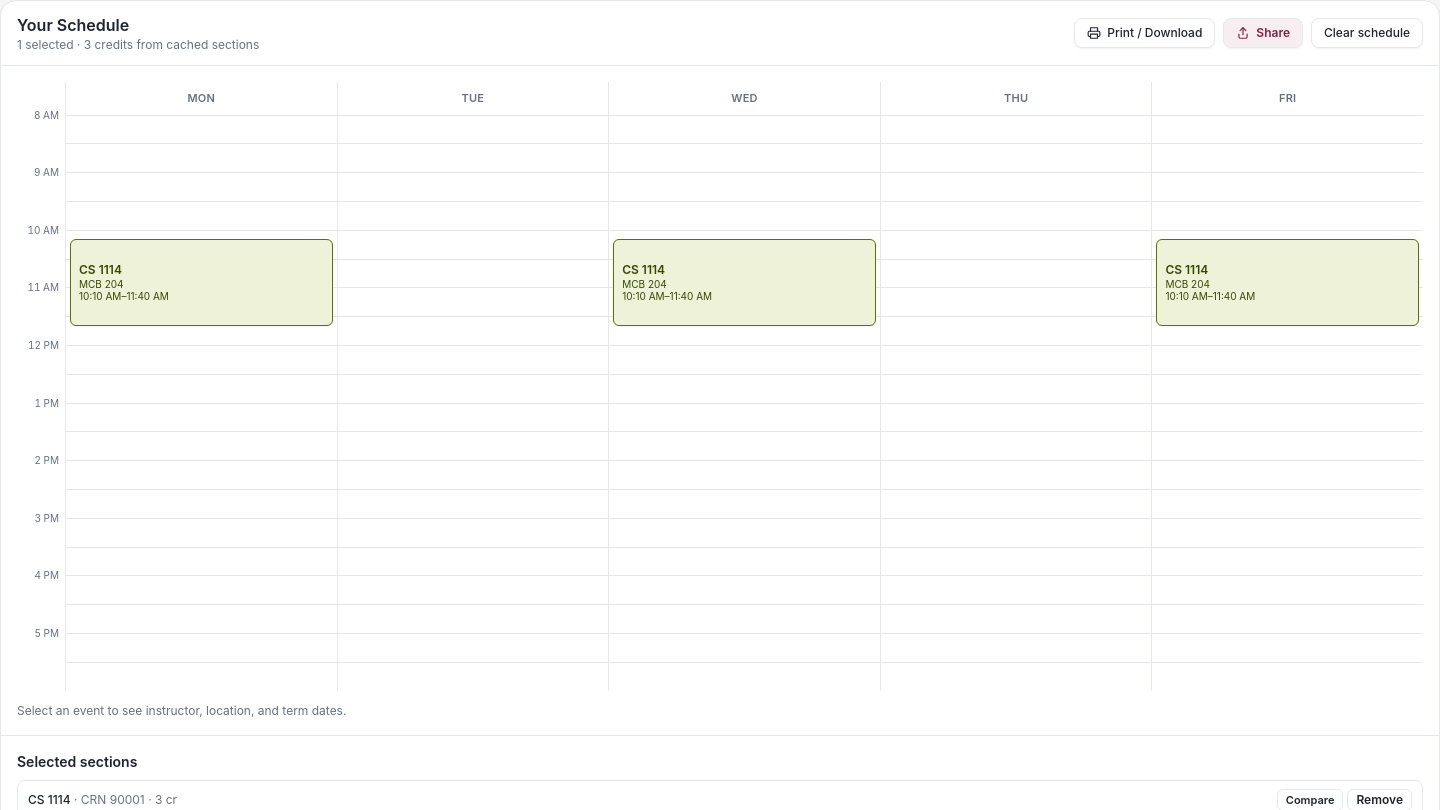
Scenario: WeeklyCalendar selected-schedule presentation › removes a section from the selected list
Click the button with aria-label "remove section 90001" at (1380, 800), box [1347,788,1412,809]
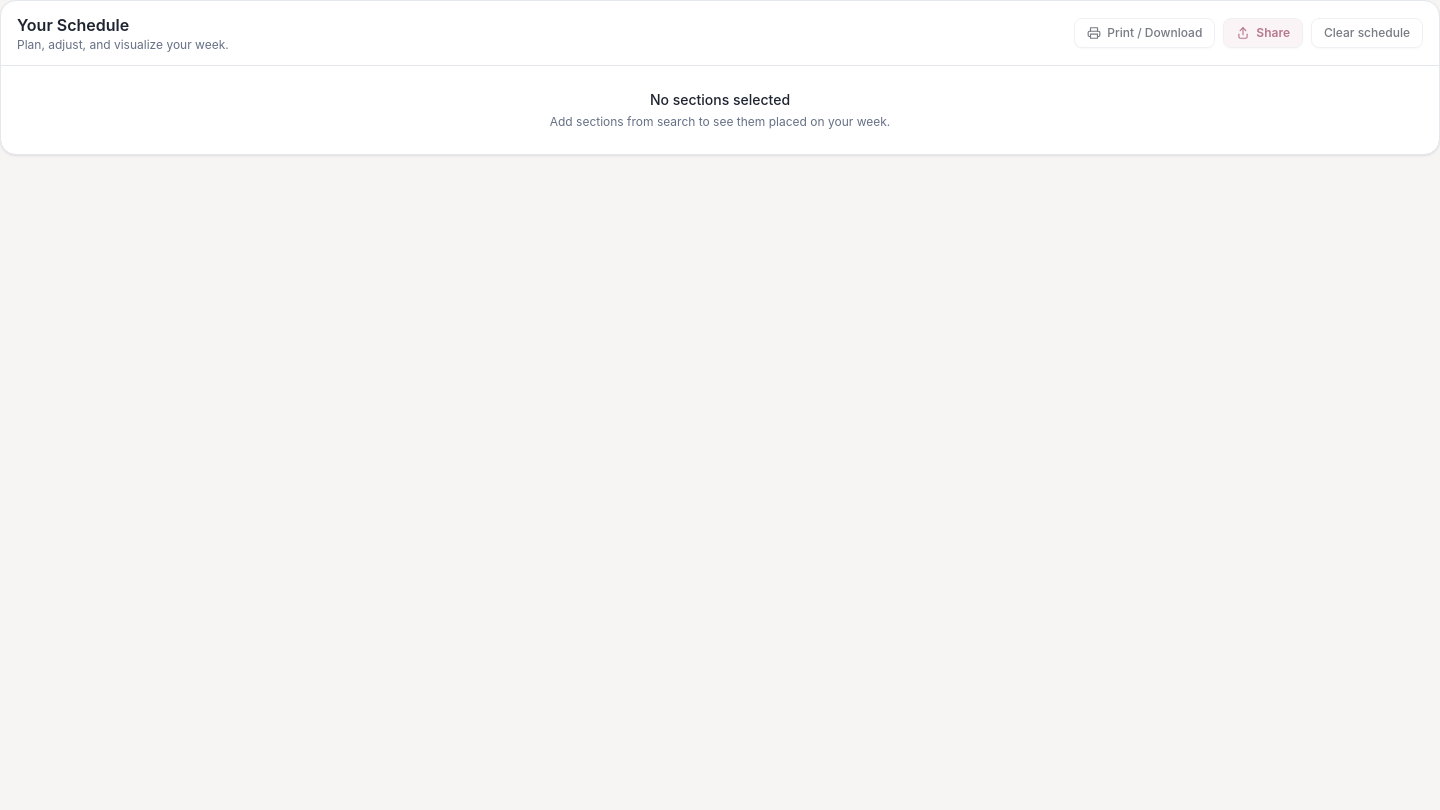
Result: the element with test id "calendar-empty" is shown at [550,91,890,129]
